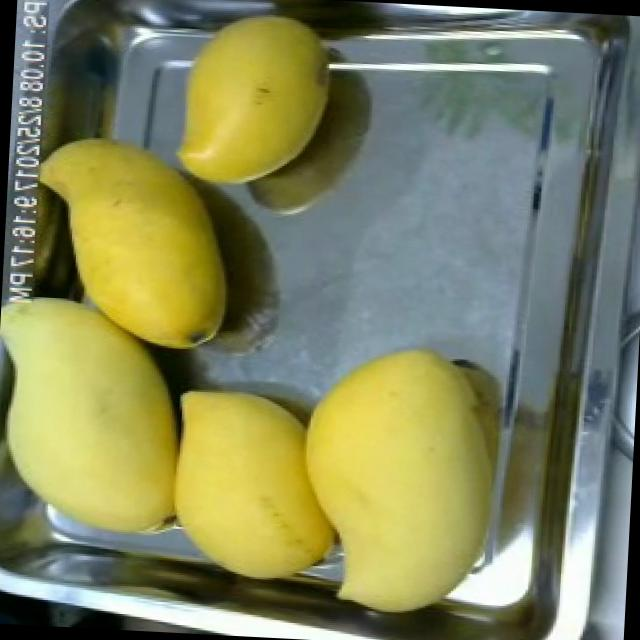fruit: (259, 321, 528, 640), (0, 267, 210, 567), (134, 353, 360, 608), (29, 124, 248, 374), (168, 0, 346, 203)
